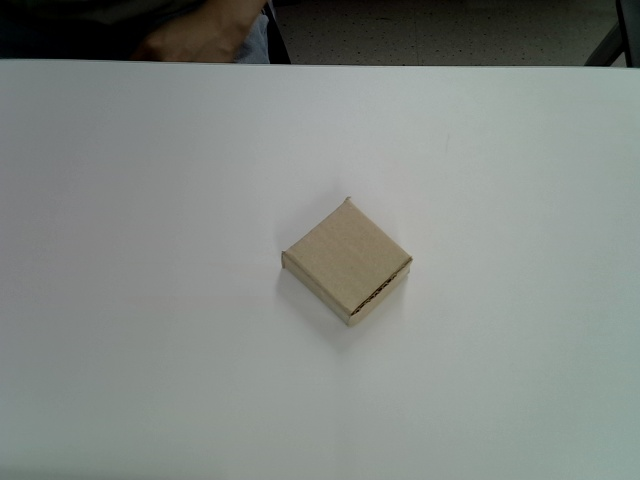normal: (282, 195, 413, 329)
